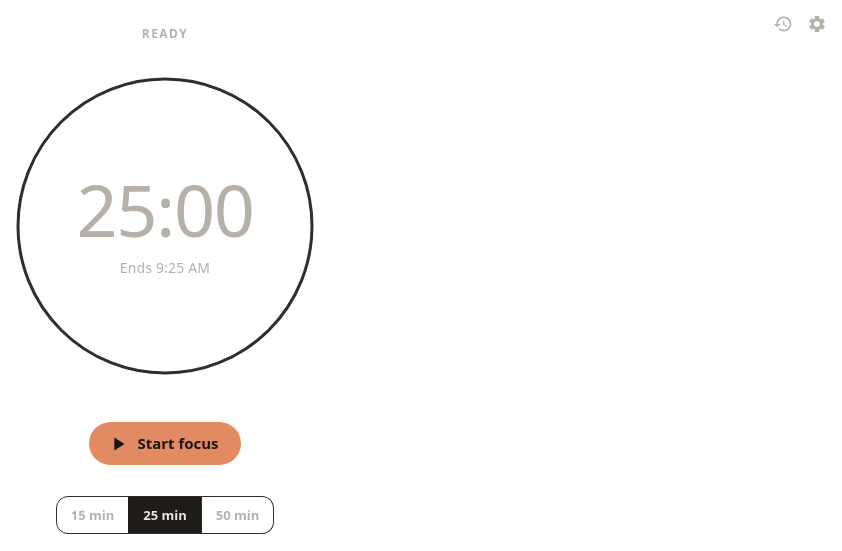
Scenario: ZenFocusTimer › freezes the countdown while paused and continues on resume
Click the button "Start focus": (165, 444) [89,422,241,465]
Wait 1000 ms
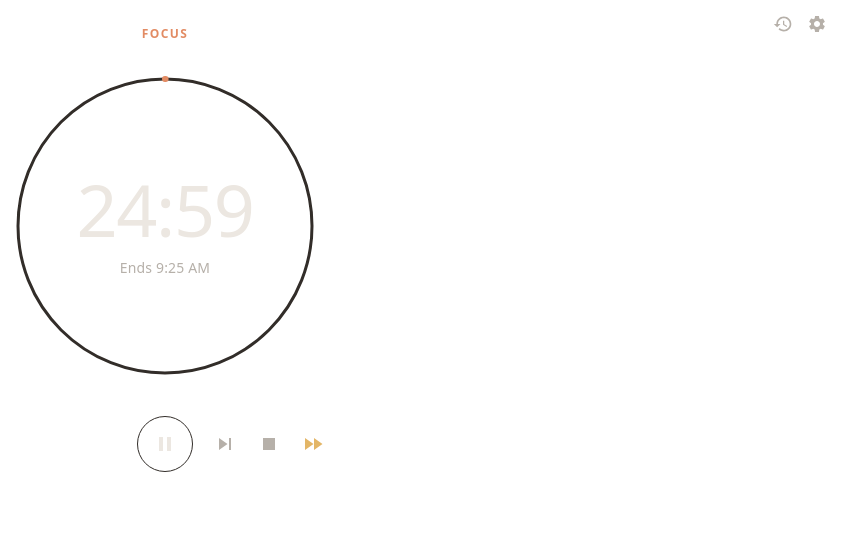
Result: the text "24:59" is shown at [77,173,253,245]
Click the button named "Pause": (165, 444) [137,416,193,472]
Wait 5000 ms
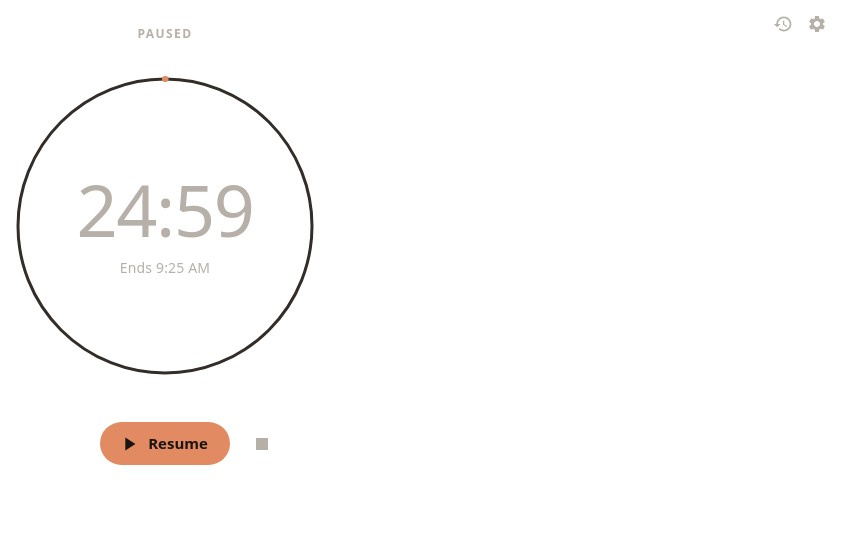
Result: the text "24:59" is shown at [77,173,253,245]
Click the button "Resume": (165, 444) [100,422,230,465]
Wait 1000 ms
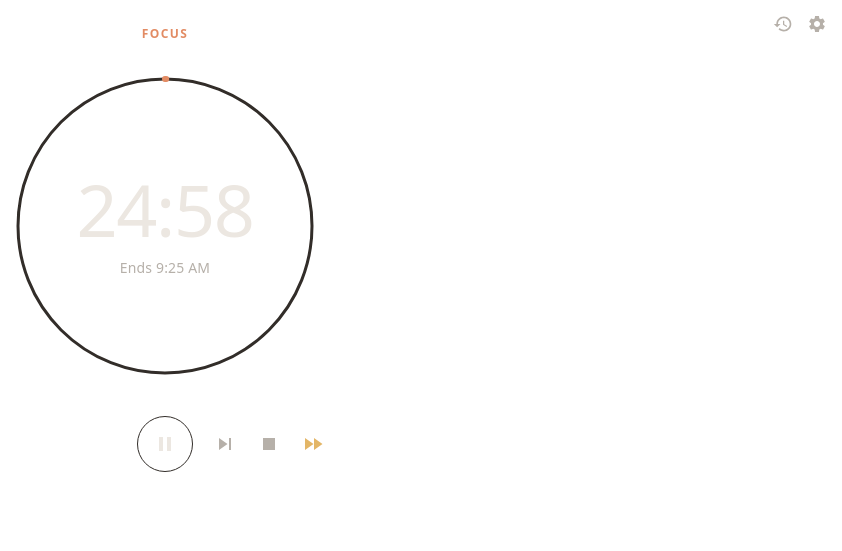
Result: the text "24:58" is shown at [77,173,253,245]
